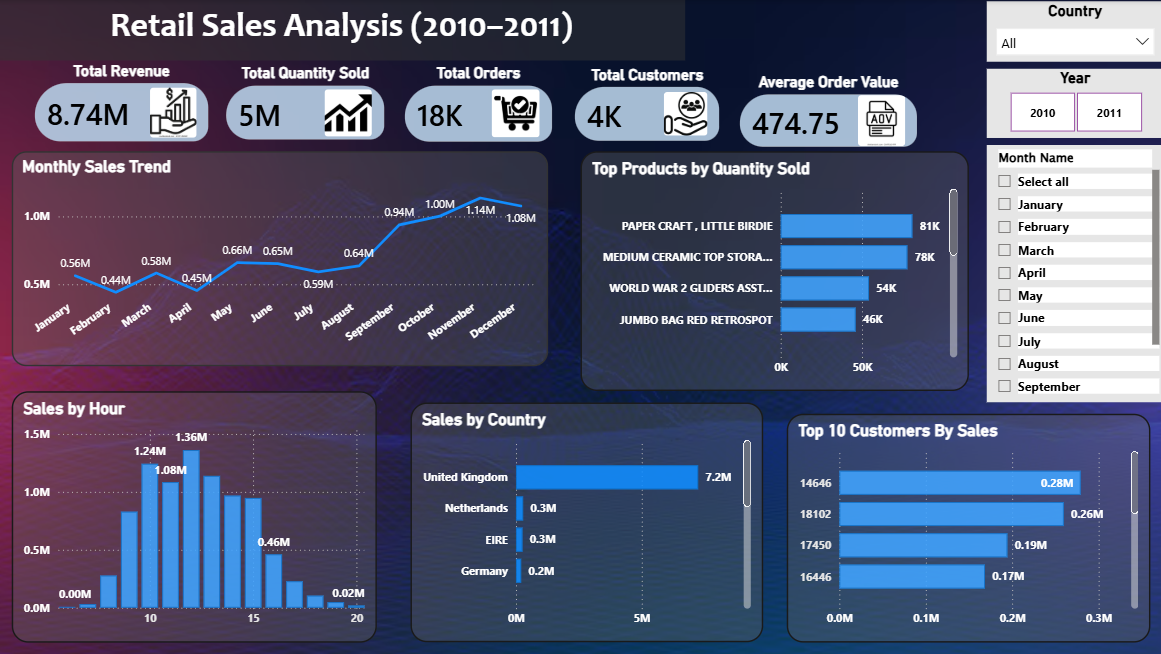

Layout of this report page (visuals, bound fields, positions):
{"tool":"powerbi","page":{"name":"  Retail Sales Dashboard","canvas":[1280,720],"ordinal":0},"visuals":[{"type":"cardVisual","title":"Total Revenue","fields":{"Data":["Retail_Final_File.Total Sale"]},"box":[35.7,67.2,200.3,93.3],"z":0},{"type":"cardVisual","title":"Total Customers","fields":{"Data":["Retail_Final_File.Total Customer"]},"box":[628.5,71.4,168.8,89.2],"z":1000},{"type":"cardVisual","title":"Total Orders","fields":{"Data":["Retail_Final_File.Total Order"]},"box":[441.9,70,171.5,90.6],"z":2000},{"type":"cardVisual","title":"Total Quantity Sold","fields":{"Data":["Retail_Final_File.Total Qty Sold"]},"box":[245.6,70,183.9,89.2],"z":3000},{"type":"cardVisual","title":"Average Order Value","fields":{"Data":["Retail_Final_File.Average Order Value"]},"box":[809.6,79.6,204.5,86.4],"z":4000},{"type":"lineChart","title":" Monthly Sales Trend","fields":{"Category":["Retail_Final_File.Month Name"],"Y":["Retail_Final_File.Total Sale"]},"box":[15.1,166,588.7,236],"z":5000},{"type":"clusteredBarChart","title":"Top Products by Quantity Sold","fields":{"Y":["Retail_Final_File.Total Qty Sold"],"Category":["Retail_Final_File.Description"]},"box":[639.5,166,426.8,263.5],"z":6000},{"type":"barChart","title":"Sales by Country","fields":{"Category":["Retail_Final_File.Country"],"Y":["Retail_Final_File.Total Sale"]},"box":[452.8,441.9,387,263.5],"z":7000},{"type":"clusteredBarChart","title":"Top 10 Customers By Sales","fields":{"Category":["Retail_Final_File.CustomerID"],"Y":["Retail_Final_File.Total Sale"]},"box":[865.9,454.2,399.3,251.1],"z":8000},{"type":"clusteredColumnChart","title":" Sales by Hour","fields":{"Category":["Retail_Final_File.Hour"],"Y":["Retail_Final_File.Total Sale"]},"box":[15.1,429.5,400.7,275.8],"z":9000},{"type":"slicer","title":"Country","fields":{"Values":["Retail_Final_File.Country"]},"box":[1085.8,1.2,194.2,66.4],"z":10000},{"type":"slicer","title":"Year","fields":{"Values":["Retail_Final_File.Year"]},"box":[1085.8,74.8,194.2,76],"z":11000},{"type":"slicer","fields":{"Values":["Retail_Final_File.Month Name"]},"box":[1085.8,159.3,194.2,282.3],"z":12000},{"type":"textbox","box":[0,0,754,66.4],"z":13000}]}

Visuals, with their boxes in screenshot pixels (x1, y1, x2, y2), scaled from the page's 1280x720 canvas onto the 1161x654 screenshot:
"Total Revenue" cardVisual: BBox(32, 61, 214, 146)
"Total Customers" cardVisual: BBox(570, 65, 723, 146)
"Total Orders" cardVisual: BBox(401, 64, 556, 146)
"Total Quantity Sold" cardVisual: BBox(223, 64, 390, 145)
"Average Order Value" cardVisual: BBox(734, 72, 920, 151)
" Monthly Sales Trend" lineChart: BBox(14, 151, 548, 365)
"Top Products by Quantity Sold" clusteredBarChart: BBox(580, 151, 967, 390)
"Sales by Country" barChart: BBox(411, 401, 762, 641)
"Top 10 Customers By Sales" clusteredBarChart: BBox(785, 413, 1148, 641)
" Sales by Hour" clusteredColumnChart: BBox(14, 390, 377, 641)
"Country" slicer: BBox(985, 1, 1160, 61)
"Year" slicer: BBox(985, 68, 1160, 137)
slicer - Retail_Final_File.Month Name: BBox(985, 145, 1160, 401)
textbox: BBox(0, 0, 684, 60)
